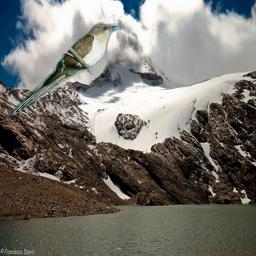Cuckoo: (8, 22, 123, 120)
